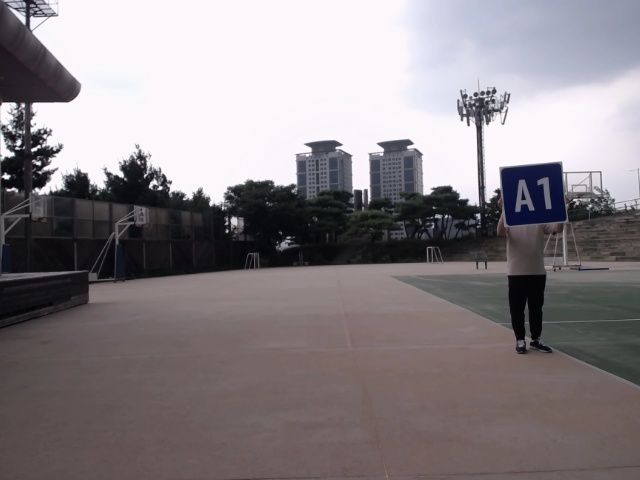delivery_a1: (499, 163, 567, 228)
